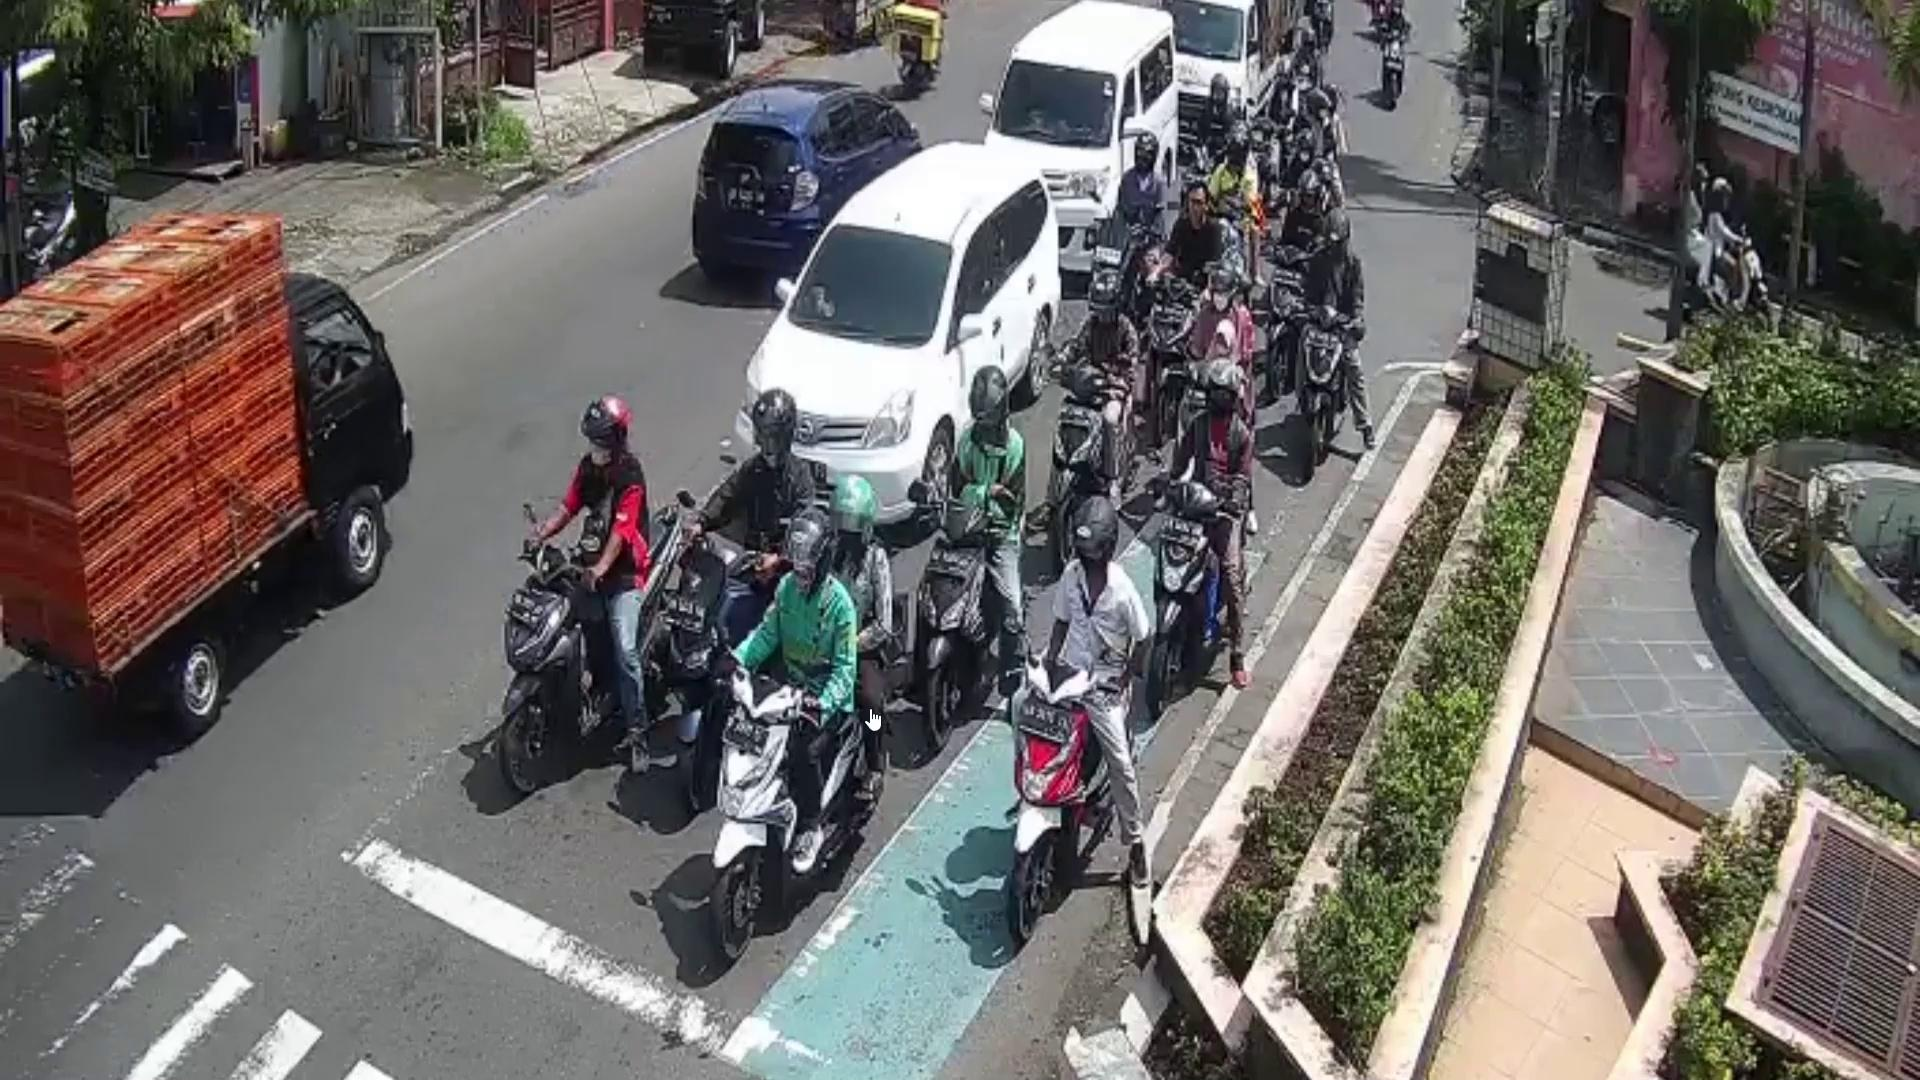car: (0, 273, 413, 738), (728, 137, 1062, 538), (989, 0, 1180, 273), (688, 78, 922, 276), (1163, 0, 1280, 127)
motorbike: (489, 501, 702, 800), (711, 669, 870, 959), (1013, 653, 1116, 936), (914, 501, 998, 753), (1149, 491, 1236, 724), (1056, 360, 1131, 513), (1303, 310, 1358, 465), (1689, 240, 1772, 320)
